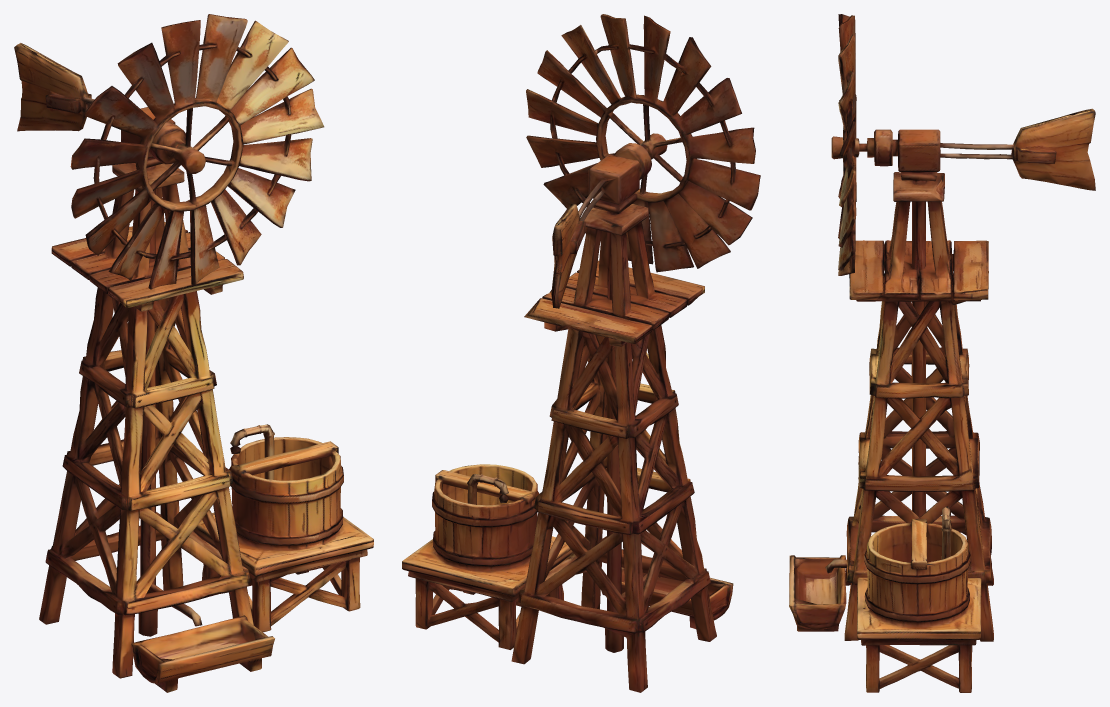
The model's file is wl_eolienne.glb.
The picture shows the model from 3 angles, left to right: view 1: azimuth 30°, elevation 25°; view 2: azimuth 150°, elevation 25°; view 3: azimuth 270°, elevation 25°; orthographic projection. The views are drawn at different scales.
Visible parts, largest first — view 1: wl_eolienne; view 2: wl_eolienne; view 3: wl_eolienne.
Boxes of the visible parts, left/top/right/bottom form: wl_eolienne: left=14, top=14, right=373, bottom=692; wl_eolienne: left=402, top=14, right=760, bottom=692; wl_eolienne: left=789, top=14, right=1095, bottom=692.
Size of the model in its own units: 0.5011 by 1 by 0.4711.
1 material, 1 textured.
